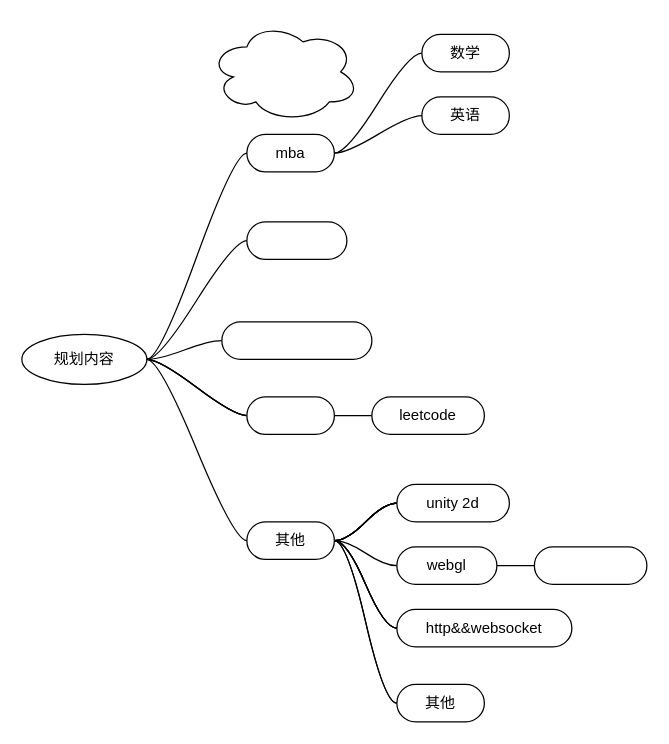
This 669x744 diagram has some shape labels left out. The shapes that lost their labels are listed below. From the top down, each one's centre as x and y in pixels, then its label:
At (283,71): "晚上 白天 先学数学 本单词看语法".
At (296,240): "nestjs".
At (296,340): "vue3 && 源码".
At (290,415): "算法".
At (590,565): "webgpu".
